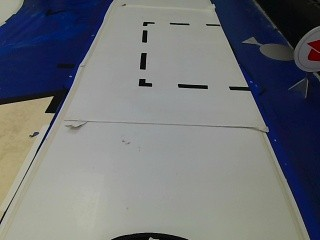school: (292, 29, 318, 72)
